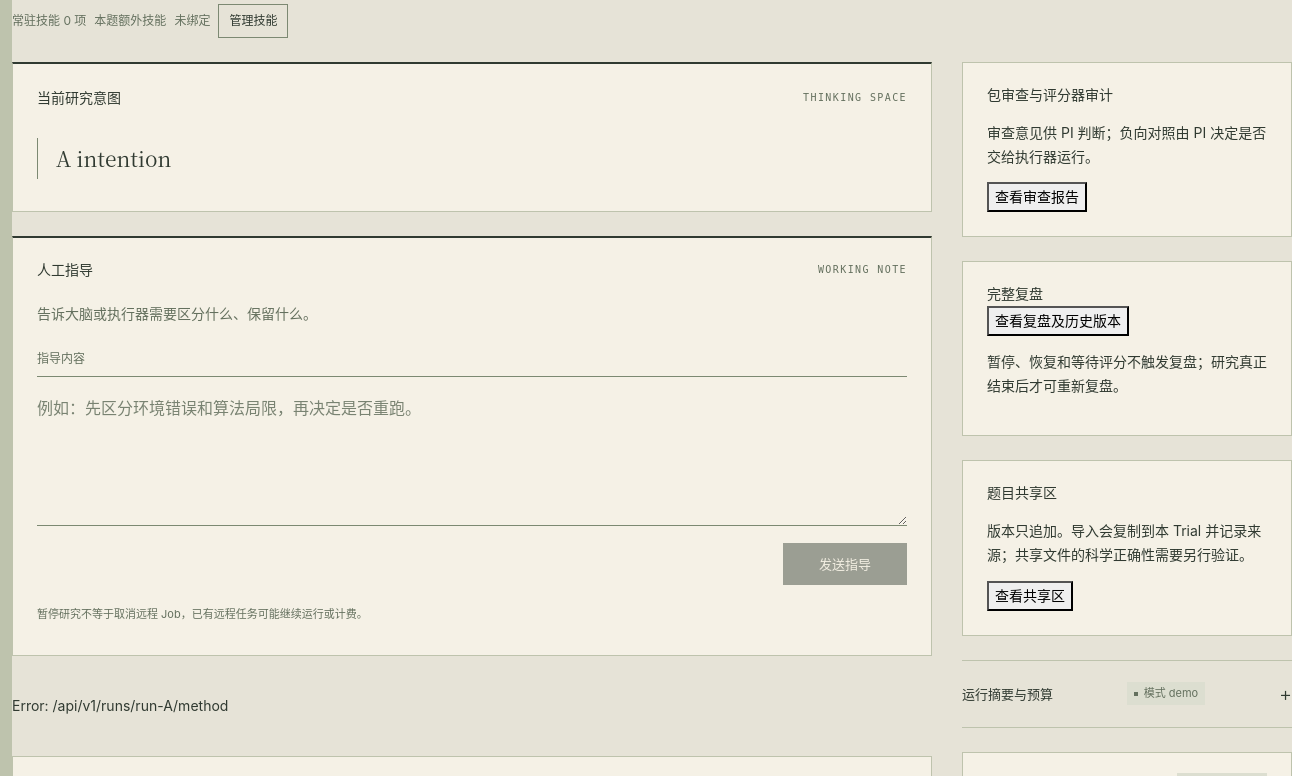
Test: research selection and lifecycle safety › accepts only the matching review receipt even if it precedes the HTTP response
(page scrolled)
Expected: the text "A intention" is shown, [56,143,171,173]
In the text box labelled "指导内容": (472, 451) [37,376,907,526], type "correlated message"
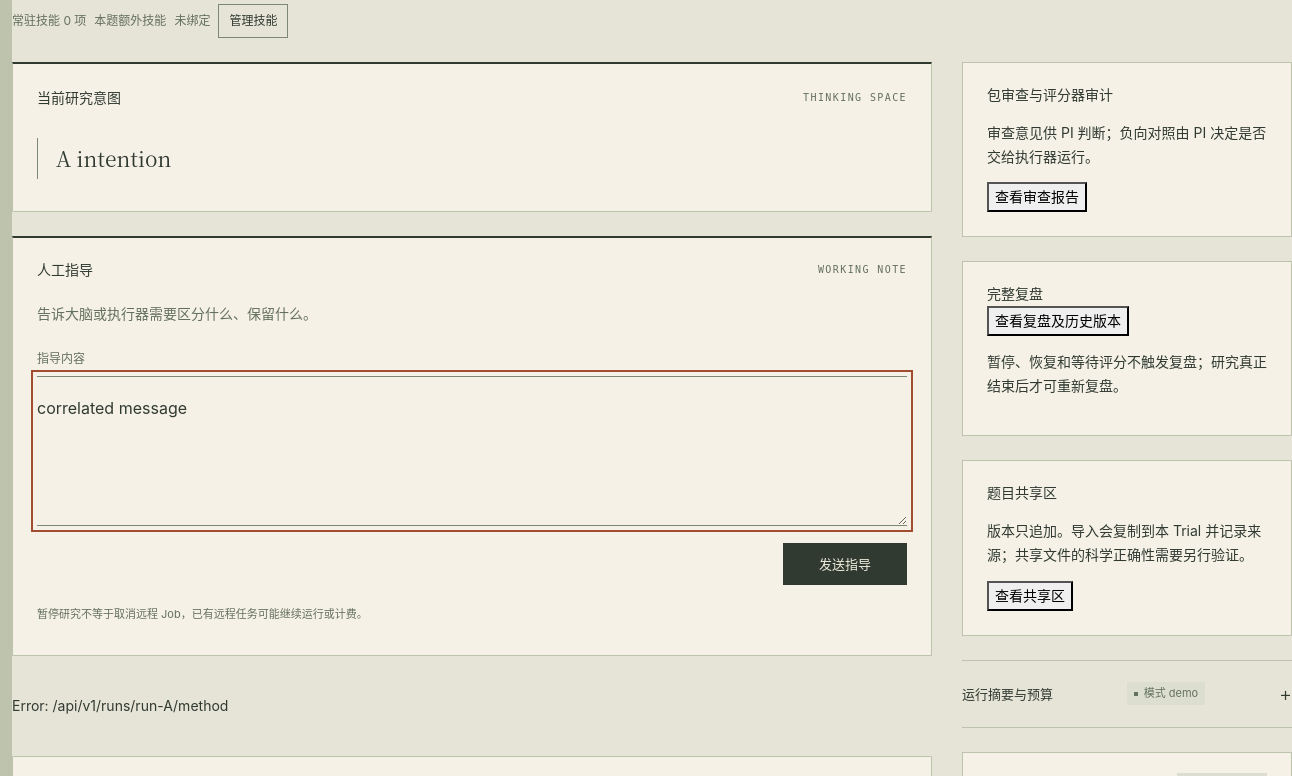
Click the button "发送指导": (845, 564) [783,543,907,585]
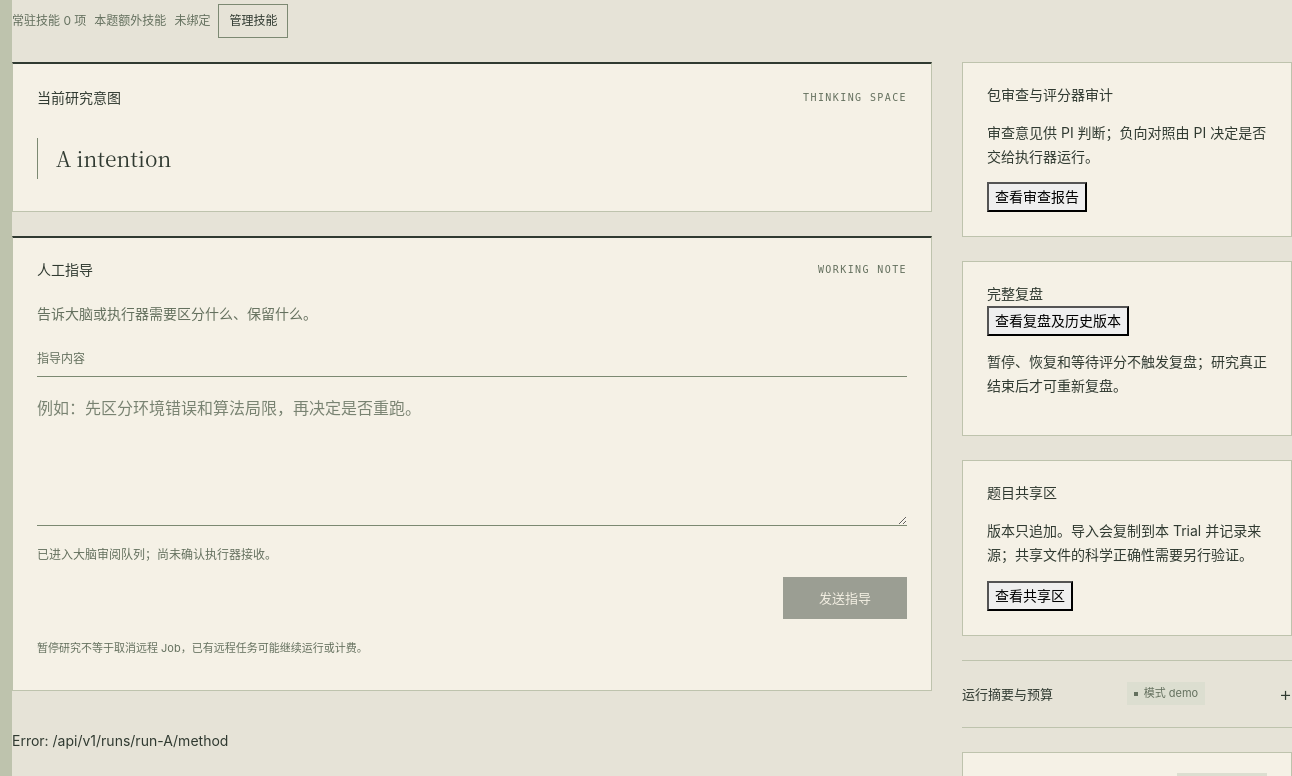
Expected: the text "已进入大脑审阅队列；尚未确认执行器接收。" is shown, [37,547,277,562]
